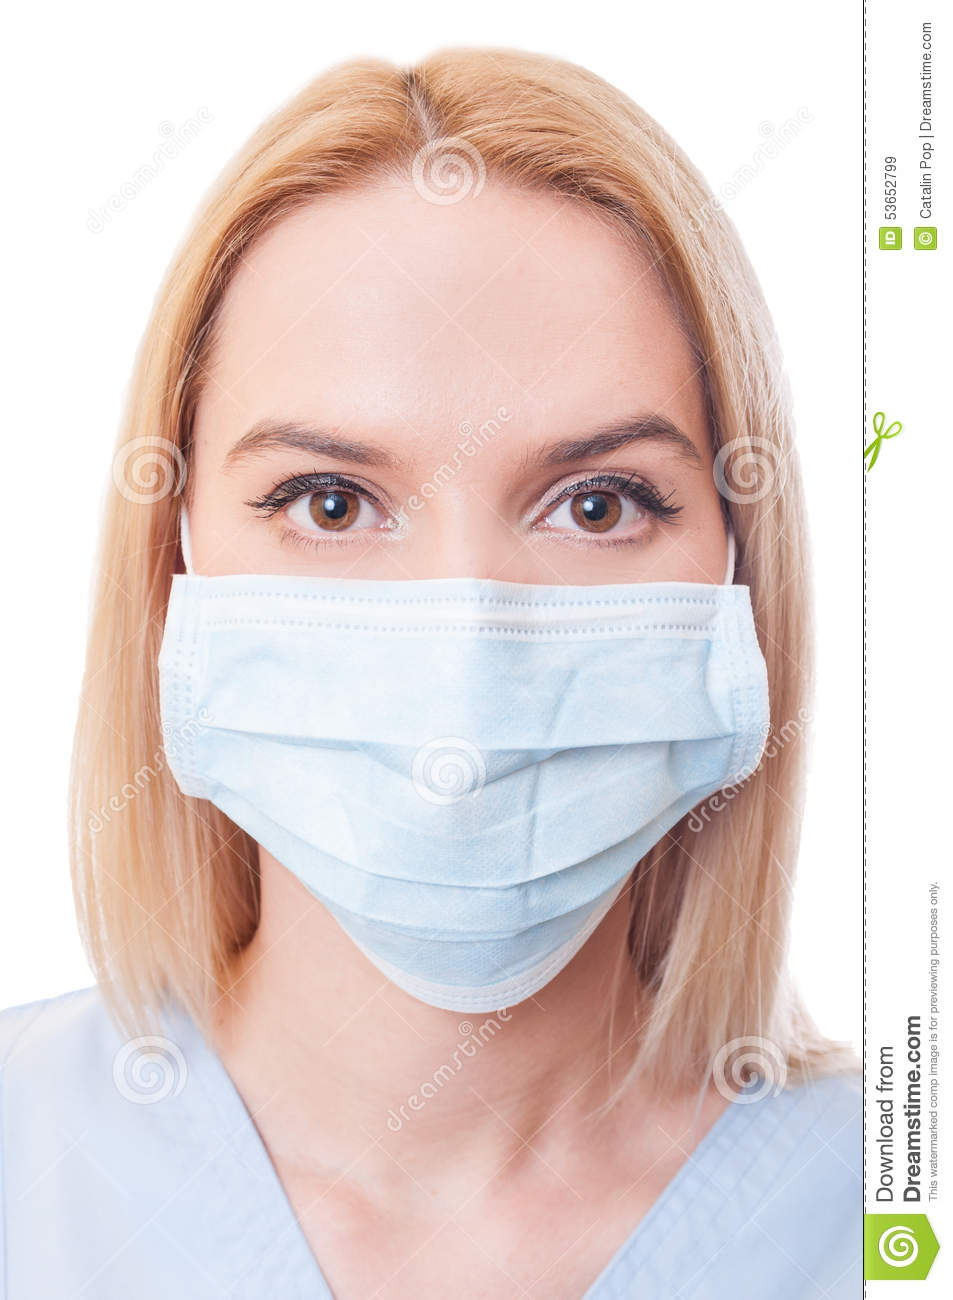mask: (180, 591, 860, 979)
